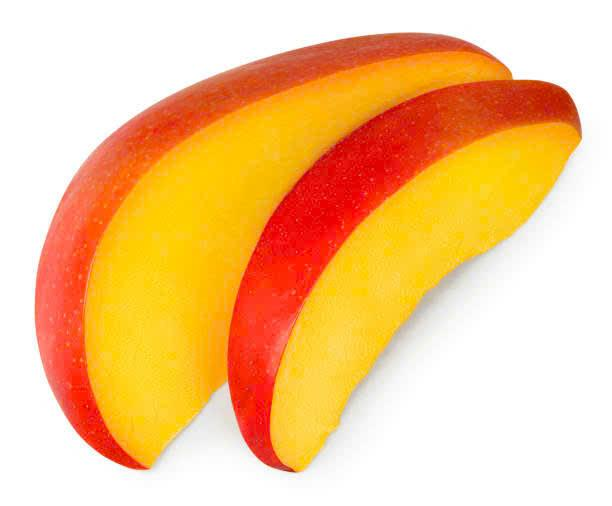mango: (50, 0, 436, 477), (216, 65, 550, 458)
